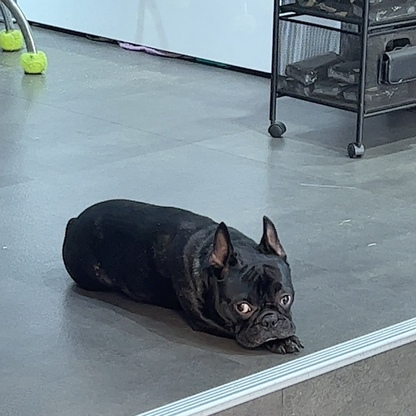bulldog: (56, 192, 310, 361)
